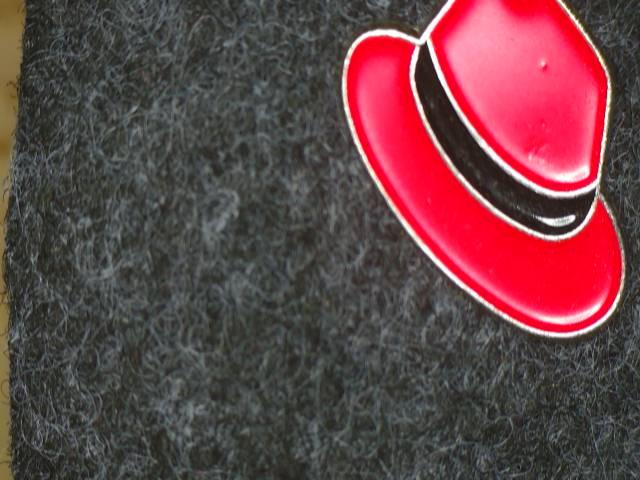Red-Hat: (300, 0, 633, 360)
